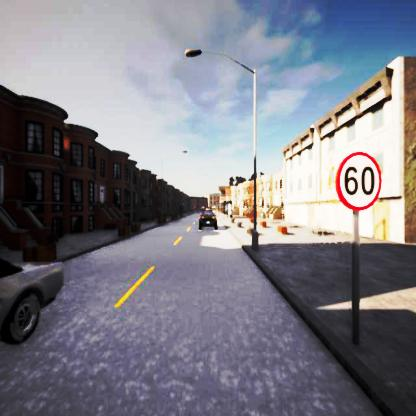vehicle: (199, 210, 218, 230)
